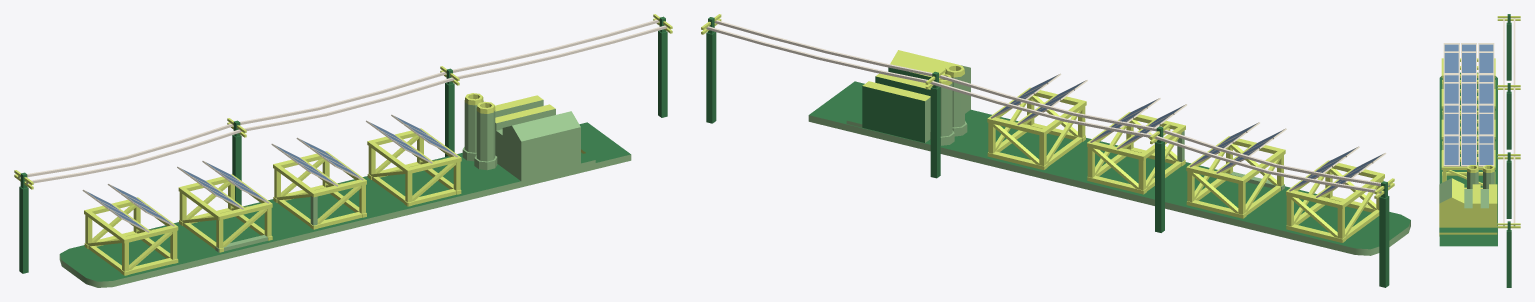
Rendered from SunPanel.fbx.
The picture shows the model from 3 angles, left to right: view 1: azimuth 30°, elevation 25°; view 2: azimuth 150°, elevation 25°; view 3: azimuth 270°, elevation 25°; orthographic projection. The views are drawn at different scales.
Parts seen in each view (by area): view 1: SunPanel; view 2: SunPanel; view 3: SunPanel.
Boxes of the visible parts, left/top/right/bottom form: SunPanel: left=14, top=14, right=672, bottom=287; SunPanel: left=701, top=14, right=1410, bottom=287; SunPanel: left=1439, top=14, right=1520, bottom=287.
Size of the model in its own units: 451 by 65.49 by 73.83.
